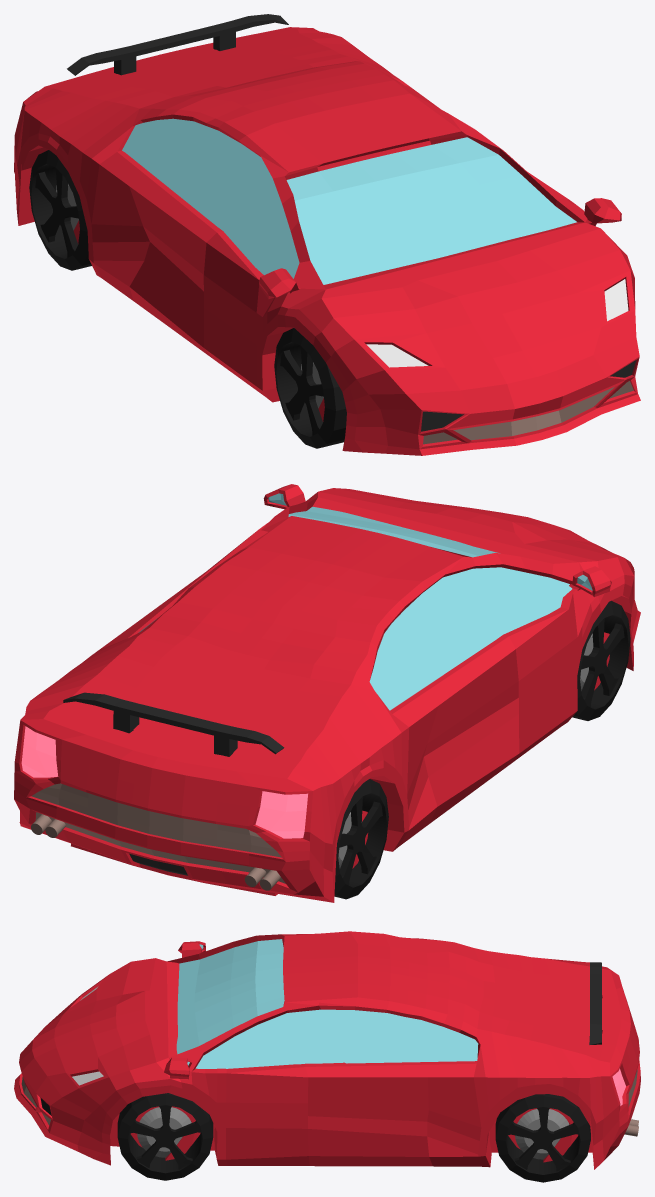
The model's file is lamboFinished.fbx.
3 renders of one model, top to bottom at view 1: azimuth 30°, elevation 25°; view 2: azimuth 150°, elevation 25°; view 3: azimuth 270°, elevation 25°, orthographic. The views are drawn at different scales.
Parts seen in each view (by area): view 1: Cube.004, FR, BR; view 2: Cube.004, BR, FR; view 3: Cube.004, BL, FL.
Boxes of the visible parts, x1=… form: Cube.004: x1=14, y1=14, x2=640, y2=455; FR: x1=274, y1=328, x2=346, y2=448; BR: x1=29, y1=150, x2=91, y2=270; Cube.004: x1=14, y1=484, x2=640, y2=902; BR: x1=334, y1=779, x2=388, y2=899; FR: x1=572, y1=600, x2=630, y2=720; Cube.004: x1=14, y1=931, x2=640, y2=1169; BL: x1=495, y1=1094, x2=590, y2=1182; FL: x1=117, y1=1093, x2=213, y2=1180.
Size of the model in its own units: 203 by 410 by 118.
